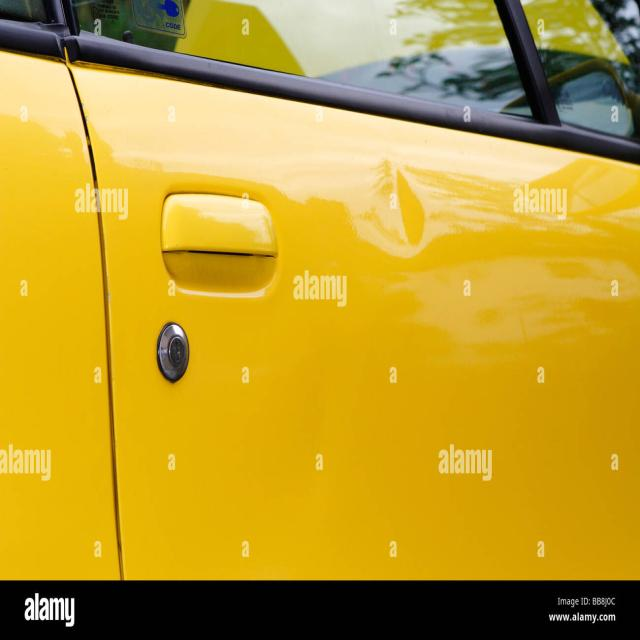dent: (359, 154, 428, 263)
